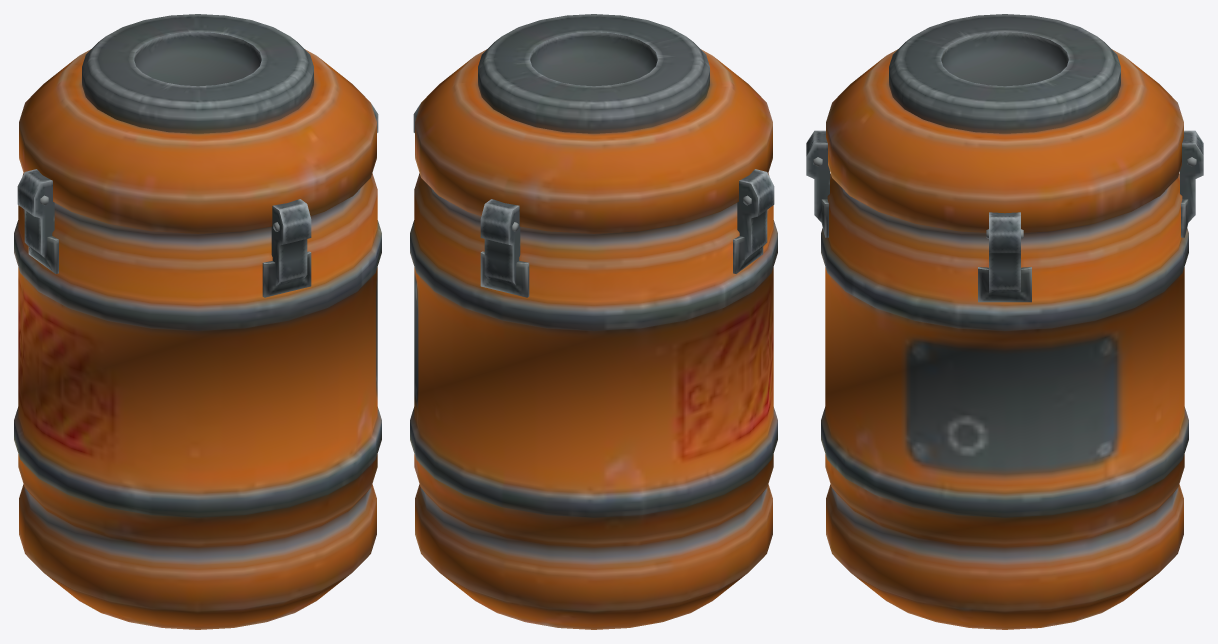
The model's file is bidon_scifi.glb.
The picture shows the model from 3 angles, left to right: view 1: azimuth 30°, elevation 25°; view 2: azimuth 150°, elevation 25°; view 3: azimuth 270°, elevation 25°; orthographic projection.
Parts seen in each view (by area): view 1: Base_low, Clip_low; view 2: Base_low, Clip_low; view 3: Base_low, Clip_low.
Boxes of the visible parts, bbox=[...] form: Base_low: bbox=[14, 14, 381, 629]; Clip_low: bbox=[17, 103, 378, 297]; Base_low: bbox=[410, 14, 777, 629]; Clip_low: bbox=[413, 103, 774, 297]; Base_low: bbox=[821, 14, 1188, 629]; Clip_low: bbox=[806, 130, 1203, 302].
Size of the model in its own units: 2.22 by 3.16 by 2.22.
Materials: 1 (1 with a texture image).
